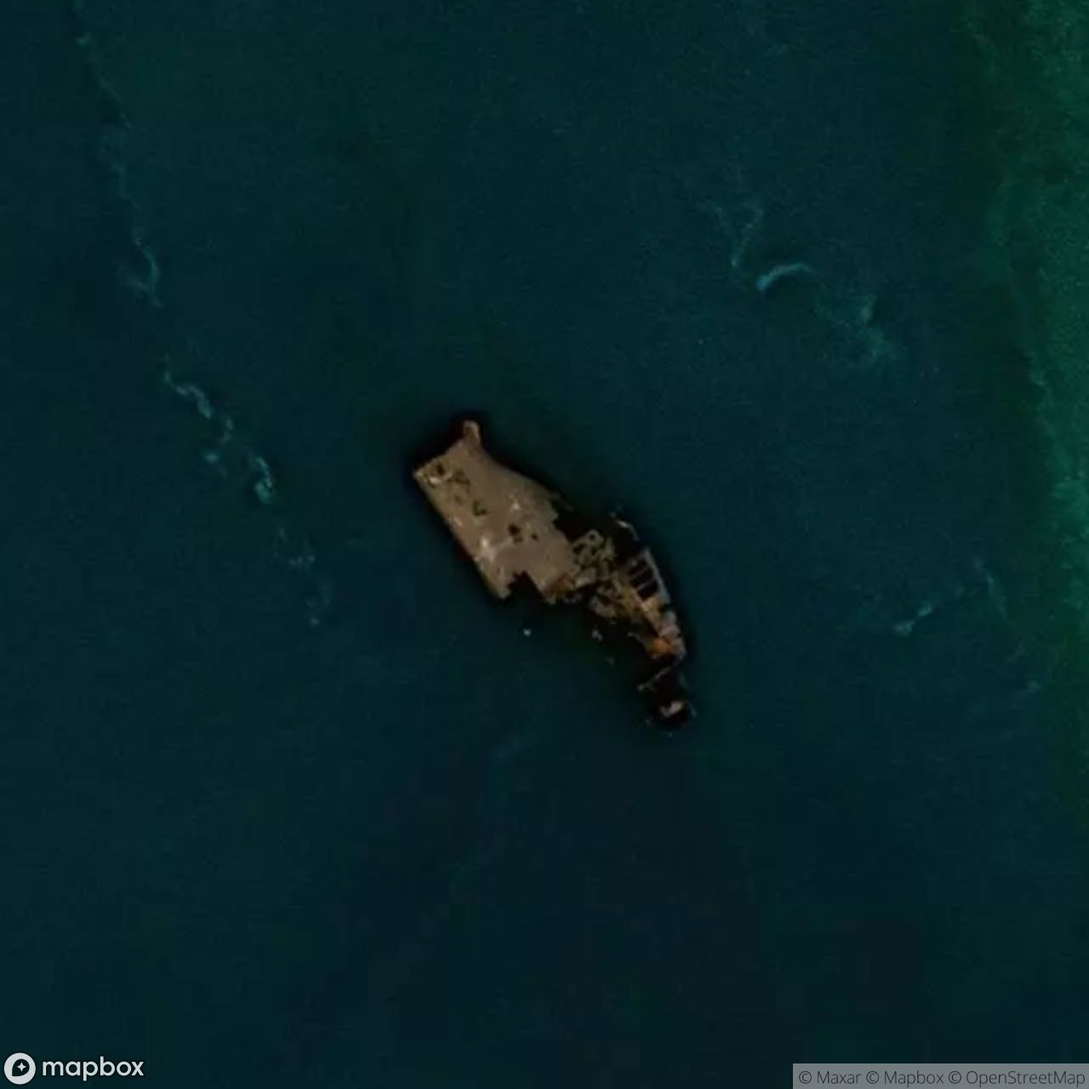Wreck: (331, 397, 788, 756)
